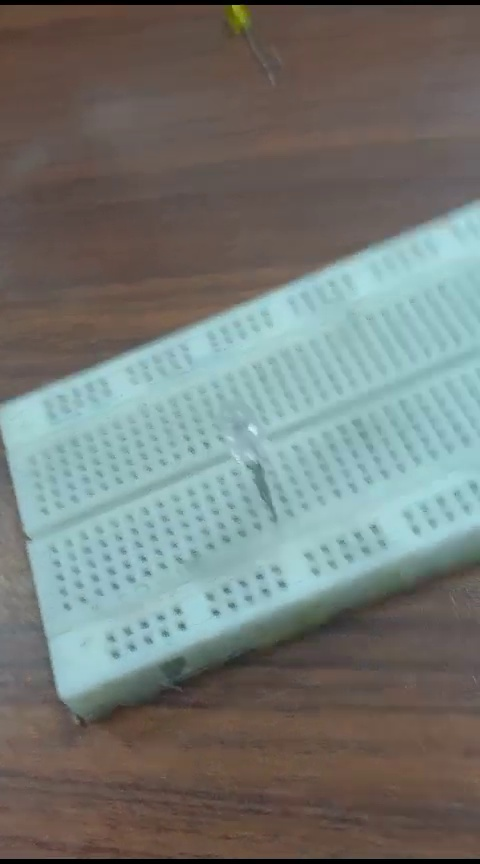LED: (198, 400, 290, 521)
